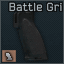AR-15 HK Battle Grip Beavertail pistol grip RAL-8000: (0, 0, 64, 64)
